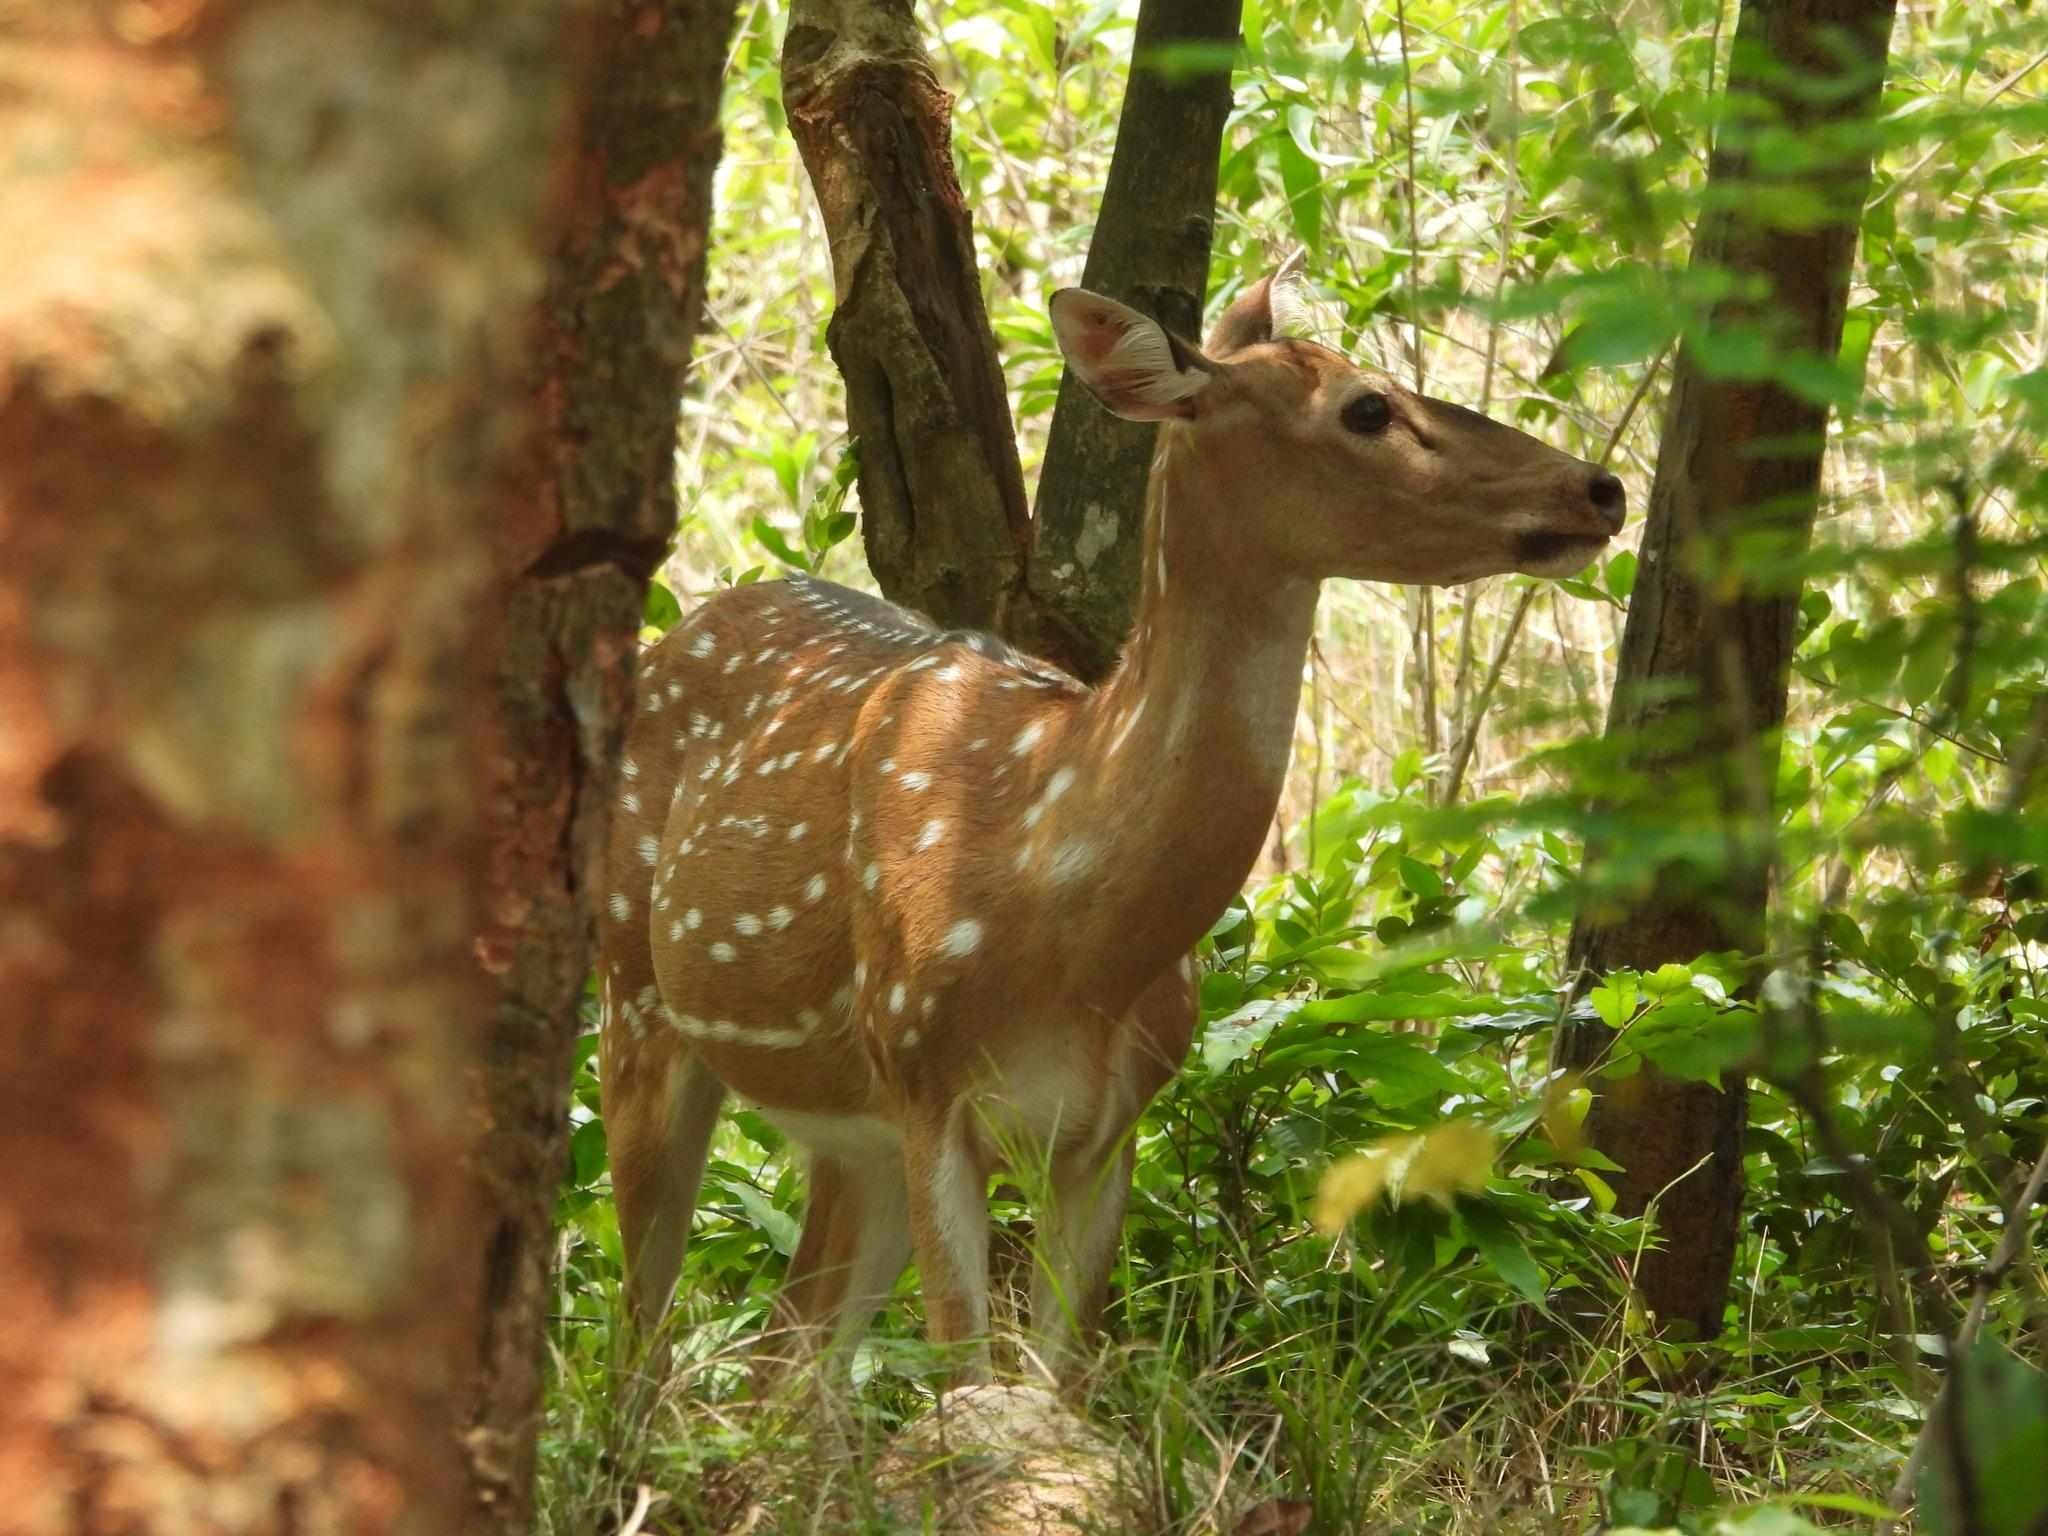Deer: (598, 269, 1625, 1342)
